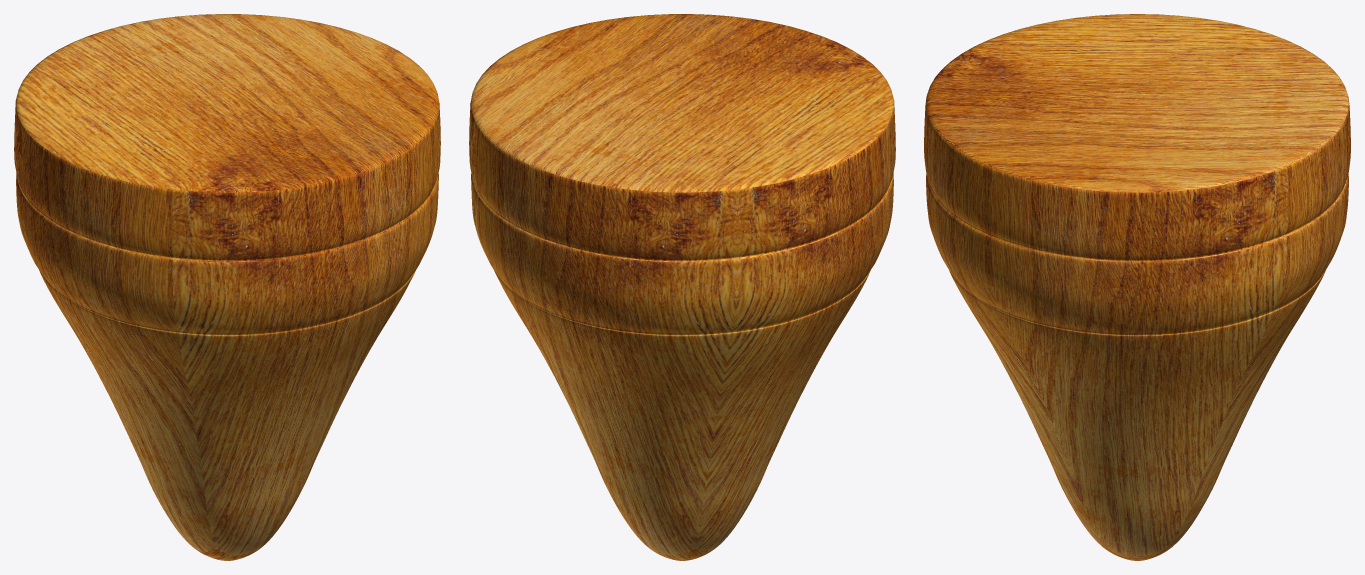
The model's file is Cuspe.glb.
3 views of the same model, side by side, from view 1: azimuth 30°, elevation 25°; view 2: azimuth 150°, elevation 25°; view 3: azimuth 270°, elevation 25° (orthographic).
Visible parts, largest first — view 1: Cubo; view 2: Cubo; view 3: Cubo.
Boxes of the visible parts, x1,y1,x2,y2 form: Cubo: (14, 14, 440, 560); Cubo: (469, 14, 895, 560); Cubo: (924, 14, 1350, 560).
Size of the model in its own units: 2.25 by 2.66 by 2.25.
Materials: 1 (1 with a texture image).
